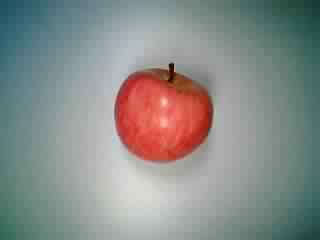apple: (109, 61, 213, 165)
